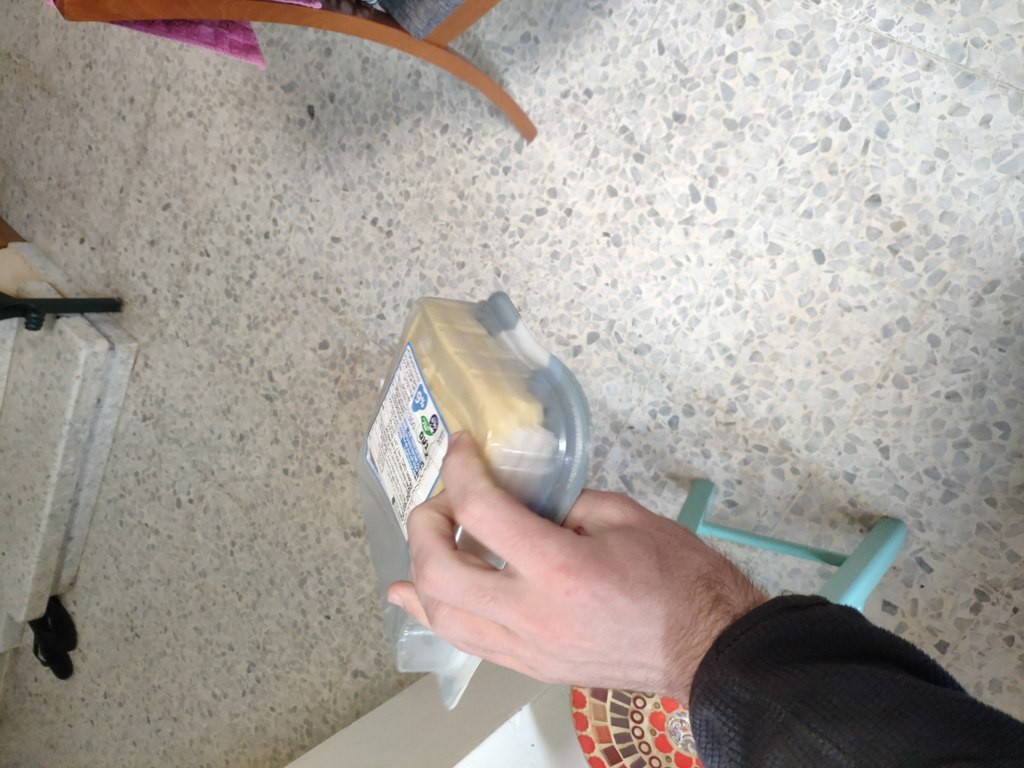Cheese: (356, 282, 557, 591)
